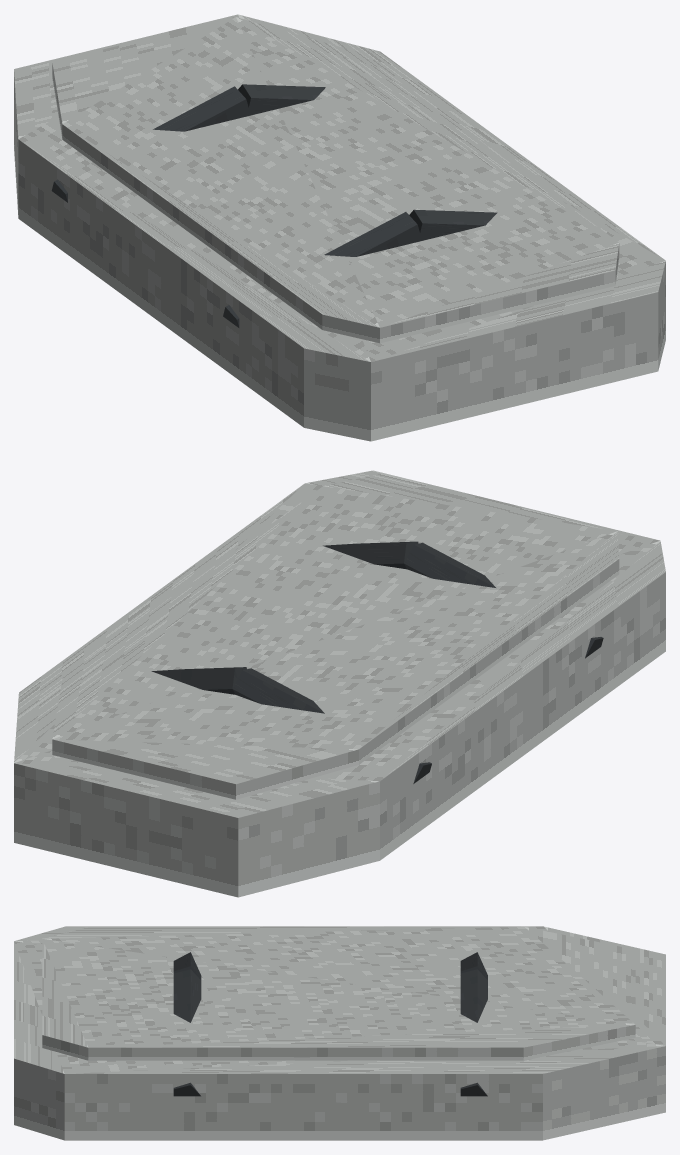
File: armor_lc_armguard.glb
The picture shows the model from 3 angles, top to bottom: view 1: azimuth 30°, elevation 25°; view 2: azimuth 150°, elevation 25°; view 3: azimuth 270°, elevation 25°; orthographic projection. The views are drawn at different scales.
Visible parts, largest first — view 1: block_raised outer surface, block_shaped protective panel, block_retention strap 0 (×2), block_retention strap 1 (×2); view 2: block_raised outer surface, block_shaped protective panel, block_retention strap 0 (×2), block_retention strap 1 (×2); view 3: block_raised outer surface, block_shaped protective panel, block_retention strap 1 (×2), block_retention strap 0 (×2).
Boxes of the visible parts, bbox=[...] form: block_raised outer surface: bbox=[52, 17, 619, 343]; block_shaped protective panel: bbox=[14, 14, 665, 441]; block_retention strap 0 (×2): bbox=[51, 86, 421, 327]; block_retention strap 1 (×2): bbox=[238, 84, 497, 240]; block_raised outer surface: bbox=[52, 473, 619, 799]; block_shaped protective panel: bbox=[14, 470, 665, 897]; block_retention strap 0 (×2): bbox=[232, 542, 603, 783]; block_retention strap 1 (×2): bbox=[151, 541, 418, 694]; block_raised outer surface: bbox=[42, 926, 635, 1060]; block_shaped protective panel: bbox=[14, 926, 665, 1140]; block_retention strap 1 (×2): bbox=[173, 969, 487, 1096]; block_retention strap 0 (×2): bbox=[173, 952, 487, 979].
Bounding box in the file's own units: 0.3282 × 0.1006 × 0.6.
Materials: 1 (1 with a texture image).
